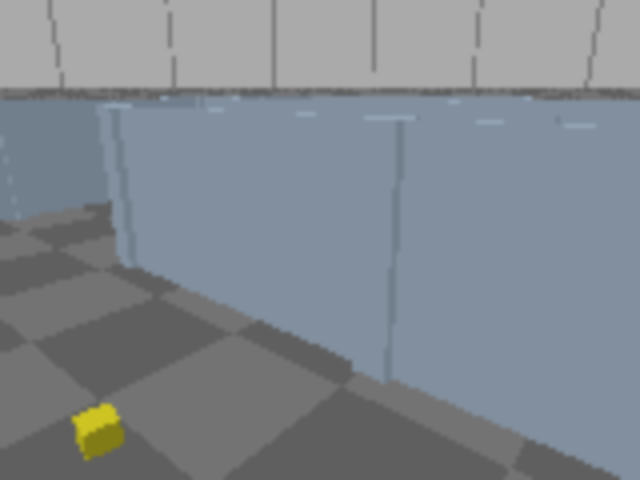puck: (72, 402, 124, 461)
